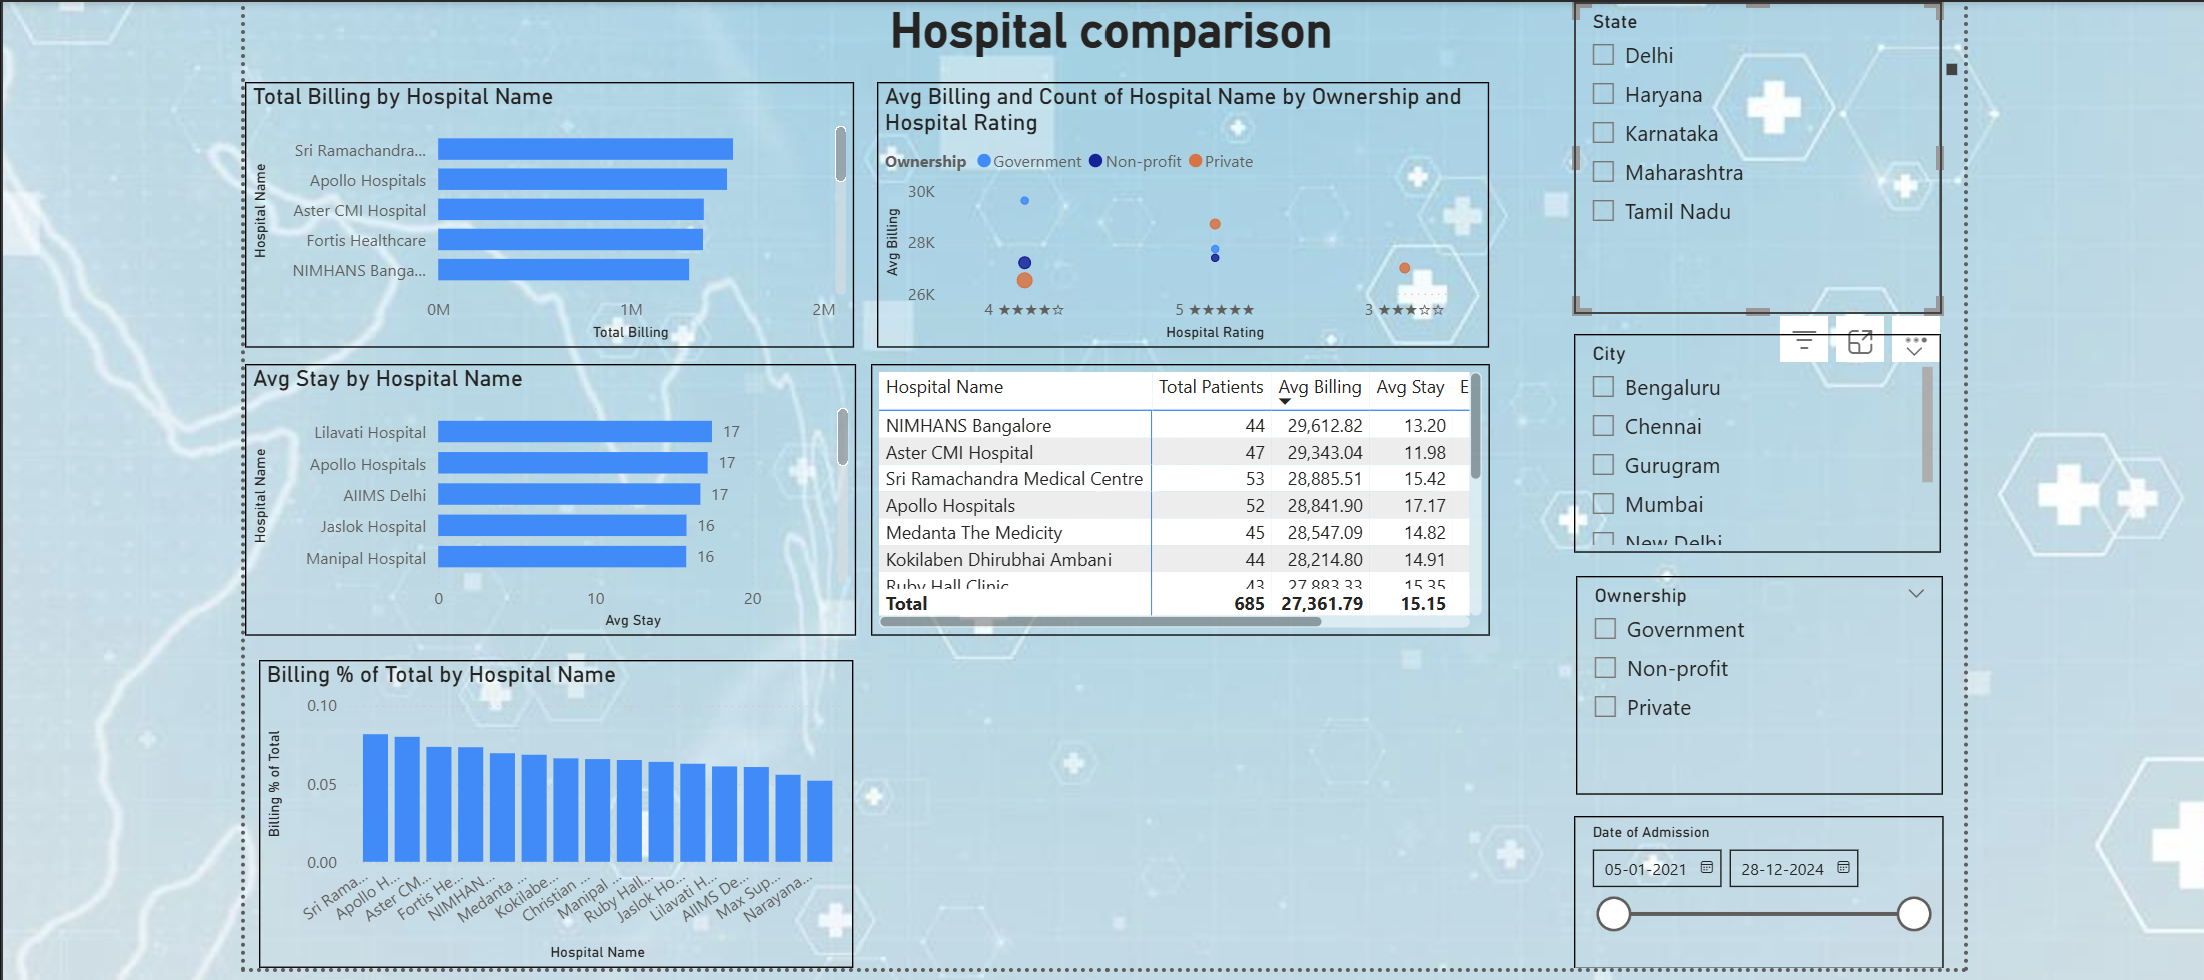

The dashboard page shown, as its layout file describes it:
{"tool":"powerbi","page":{"name":"Hospital comparison","canvas":[1280,720],"ordinal":3},"visuals":[{"type":"textbox","title":"Hospital comparison","box":[10.4,0,1270.1,59.6],"z":0},{"type":"clusteredBarChart","fields":{"Category":["2_Hospital_Info.Hospital Name"],"Y":["1_Patient_Dataset.Total Billing"]},"box":[0,60.1,454.1,197.8],"z":1000},{"type":"clusteredBarChart","fields":{"Category":["2_Hospital_Info.Hospital Name"],"Y":["2_Hospital_Info.Avg Stay"]},"box":[0,270.6,455.7,202.5],"z":2000},{"type":"scatterChart","fields":{"X":["2_Hospital_Info.Hospital Rating"],"Y":["1_Patient_Dataset.Avg Billing"],"Series":["2_Hospital_Info.Ownership"],"Size":["CountNonNull(2_Hospital_Info.Hospital Name)"]},"box":[471.5,60.1,455.7,197.8],"z":3000},{"type":"pivotTable","fields":{"Rows":["2_Hospital_Info.Hospital Name"],"Values":["2_Hospital_Info.Total Patients","1_Patient_Dataset.Avg Billing","2_Hospital_Info.Avg Stay","1_Patient_Dataset.Emergency %"]},"box":[466.7,270.6,460.4,202.5],"z":4000},{"type":"clusteredColumnChart","fields":{"Category":["2_Hospital_Info.Hospital Name"],"Y":["1_Patient_Dataset.Billing % of Total"]},"box":[11.1,490.5,443,229.4],"z":5000},{"type":"slicer","fields":{"Values":["2_Hospital_Info.State"]},"box":[990.5,0,273.7,232.6],"z":5001},{"type":"slicer","fields":{"Values":["2_Hospital_Info.City"]},"box":[990.5,246.8,273.7,163],"z":5002},{"type":"slicer","fields":{"Values":["2_Hospital_Info.Ownership"]},"box":[992,427.2,273.7,163],"z":5003},{"type":"slicer","fields":{"Values":["1_Patient_Dataset.Date of Admission"]},"box":[990.5,606,275.3,113.9],"z":5004}]}

Visuals, with their boxes in screenshot pixels (x1, y1, x2, y2):
"Hospital comparison" textbox: box=[249, 0, 1957, 80]
clusteredBarChart - 2_Hospital_Info.Hospital Name x 1_Patient_Dataset.Total Billing: box=[235, 81, 846, 347]
clusteredBarChart - 2_Hospital_Info.Hospital Name x 2_Hospital_Info.Avg Stay: box=[235, 364, 848, 636]
scatterChart - 2_Hospital_Info.Hospital Rating x 1_Patient_Dataset.Avg Billing: box=[869, 81, 1482, 347]
pivotTable - 2_Hospital_Info.Hospital Name x 2_Hospital_Info.Total Patients: box=[863, 364, 1482, 636]
clusteredColumnChart - 2_Hospital_Info.Hospital Name x 1_Patient_Dataset.Billing % of Total: box=[250, 659, 846, 968]
slicer - 2_Hospital_Info.State: box=[1567, 0, 1935, 313]
slicer - 2_Hospital_Info.City: box=[1567, 332, 1935, 551]
slicer - 2_Hospital_Info.Ownership: box=[1569, 574, 1937, 793]
slicer - 1_Patient_Dataset.Date of Admission: box=[1567, 815, 1937, 968]
